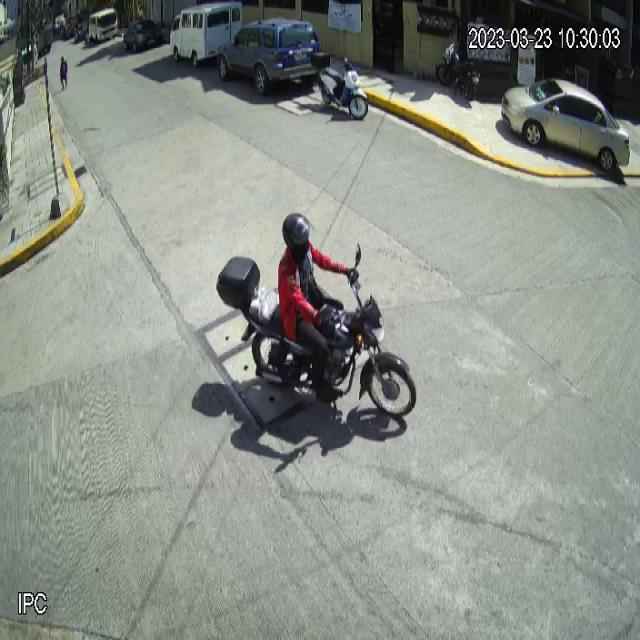Car: (501, 76, 631, 173), (216, 17, 322, 96)
Motorcycle: (217, 241, 420, 425), (310, 52, 369, 122)
Van: (170, 0, 243, 68)
